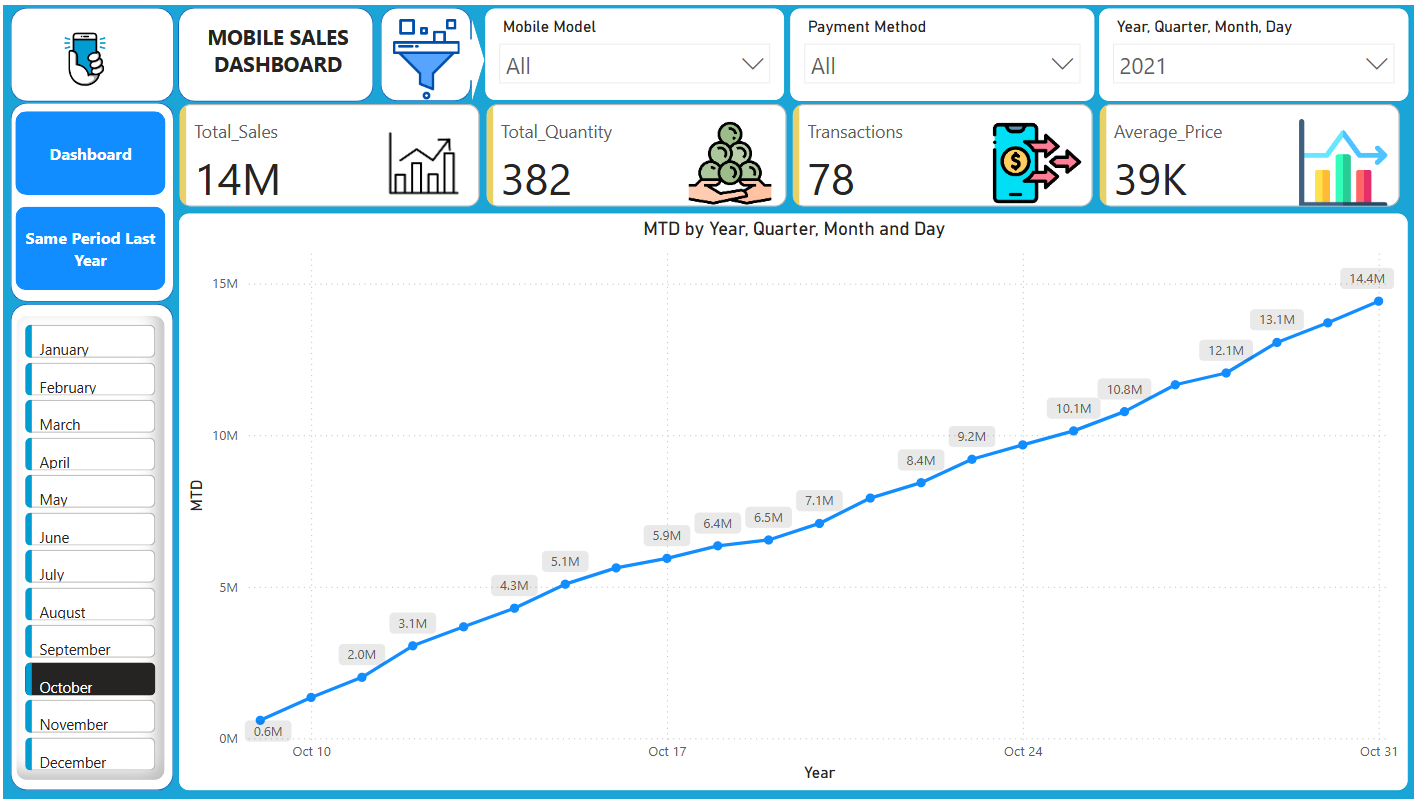

What the dashboard file says about the page in this screenshot:
{"tool":"powerbi","page":{"name":"MTD Report","canvas":[1280,720],"ordinal":1},"visuals":[{"type":"shape","box":[7.2,2.4,148.4,85.7],"z":0},{"type":"image","box":[28.8,12.4,92,72.8],"z":1000},{"type":"shape","box":[7.2,88.1,148.4,181],"z":2000},{"type":"cardVisual","fields":{"Data":["Sales_Data.Total_Sales","Sales_Data.Total_Quantity","Sales_Data.Transactions","Sales_Data.Average_Price"]},"box":[155.6,84.5,1119.6,103.8],"z":3000},{"type":"slicer","fields":{"Values":["Sales_Data.Mobile Model"]},"box":[436.6,2.7,273.1,85],"z":4000},{"type":"slicer","fields":{"Values":["Sales_Data.Payment Method"]},"box":[712.6,2.4,277.5,85.7],"z":5000},{"type":"slicer","fields":{"Values":["Custom_Calender.Date.Variation.Date Hierarchy.Year","Custom_Calender.Date.Variation.Date Hierarchy.Quarter","Custom_Calender.Date.Variation.Date Hierarchy.Month","Custom_Calender.Date.Variation.Date Hierarchy.Day"]},"box":[992.9,2.4,282.3,85.7],"z":6000},{"type":"shape","box":[342,2.7,82.3,85],"z":7000},{"type":"image","box":[272,6.9,223.9,85.2],"z":8000},{"type":"shape","box":[413.8,12.1,22.9,74.8],"z":9000},{"type":"shape","box":[159.3,2.4,177.3,85.7],"z":10000},{"type":"textbox","box":[166.5,10.9,165.3,66.4],"z":11000},{"type":"lineChart","fields":{"Y":["Sales_Data.MTD"],"Category":["Custom_Calender.Date.Variation.Date Hierarchy.Year","Custom_Calender.Date.Variation.Date Hierarchy.Quarter","Custom_Calender.Date.Variation.Date Hierarchy.Month","Custom_Calender.Date.Variation.Date Hierarchy.Day"]},"box":[159.3,188.2,1116,524.8],"z":12000},{"type":"shape","box":[7.2,271.4,148,441.6],"z":13000},{"type":"advancedSlicerVisual","fields":{"Values":["Custom_Calender.Date.Variation.Date Hierarchy.Month"]},"box":[10.9,281.1,136.3,422.3],"z":14000},{"type":"pageNavigator","box":[10.9,96.5,136.3,162.9],"z":15000}]}

Visuals, with their boxes in screenshot pixels (x1, y1, x2, y2), scaled from the page's 1280x720 canvas onto the 1414x799 screenshot:
shape: 8, 3, 172, 98
image: 32, 14, 133, 95
shape: 8, 98, 172, 299
cardVisual - Sales_Data.Total_Sales x Sales_Data.Total_Quantity: 172, 94, 1409, 209
slicer - Sales_Data.Mobile Model: 482, 3, 784, 97
slicer - Sales_Data.Payment Method: 787, 3, 1094, 98
slicer - Custom_Calender.Date.Variation.Date Hierarchy.Year x Custom_Calender.Date.Variation.Date Hierarchy.Quarter: 1097, 3, 1409, 98
shape: 378, 3, 469, 97
image: 300, 8, 548, 102
shape: 457, 13, 482, 96
shape: 176, 3, 372, 98
textbox: 184, 12, 367, 86
lineChart - Sales_Data.MTD x Custom_Calender.Date.Variation.Date Hierarchy.Year: 176, 209, 1409, 791
shape: 8, 301, 171, 791
advancedSlicerVisual - Custom_Calender.Date.Variation.Date Hierarchy.Month: 12, 312, 163, 781
pageNavigator: 12, 107, 163, 288
